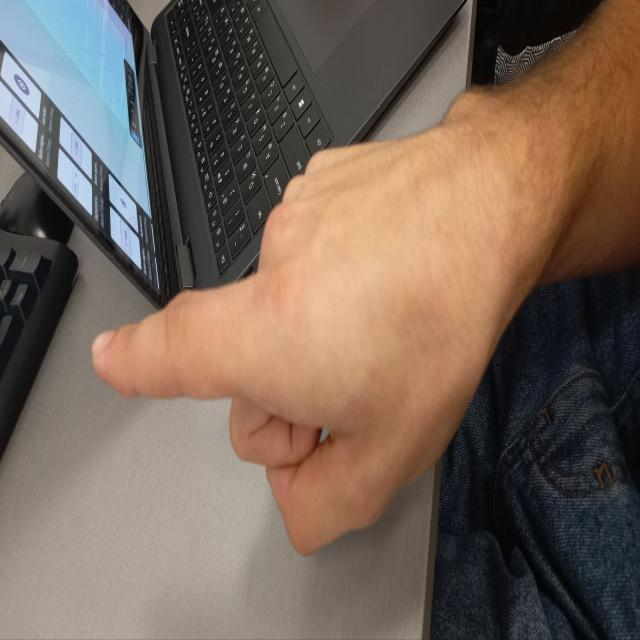z: (73, 148, 514, 506)
